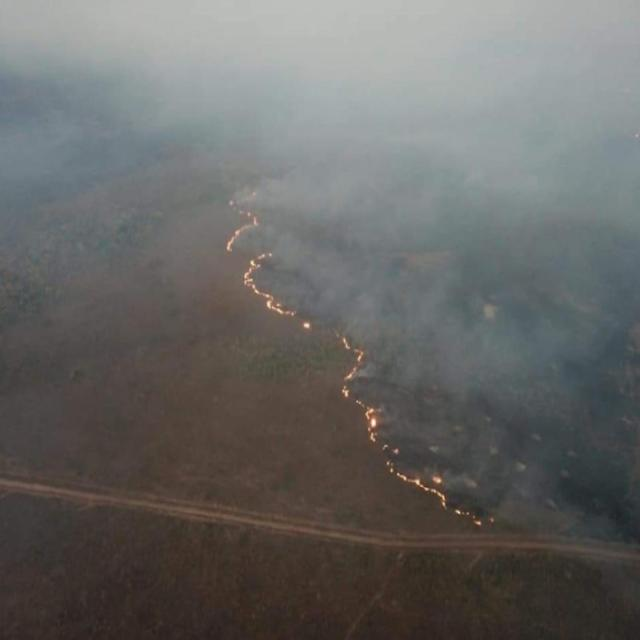smoke: (148, 21, 635, 460)
